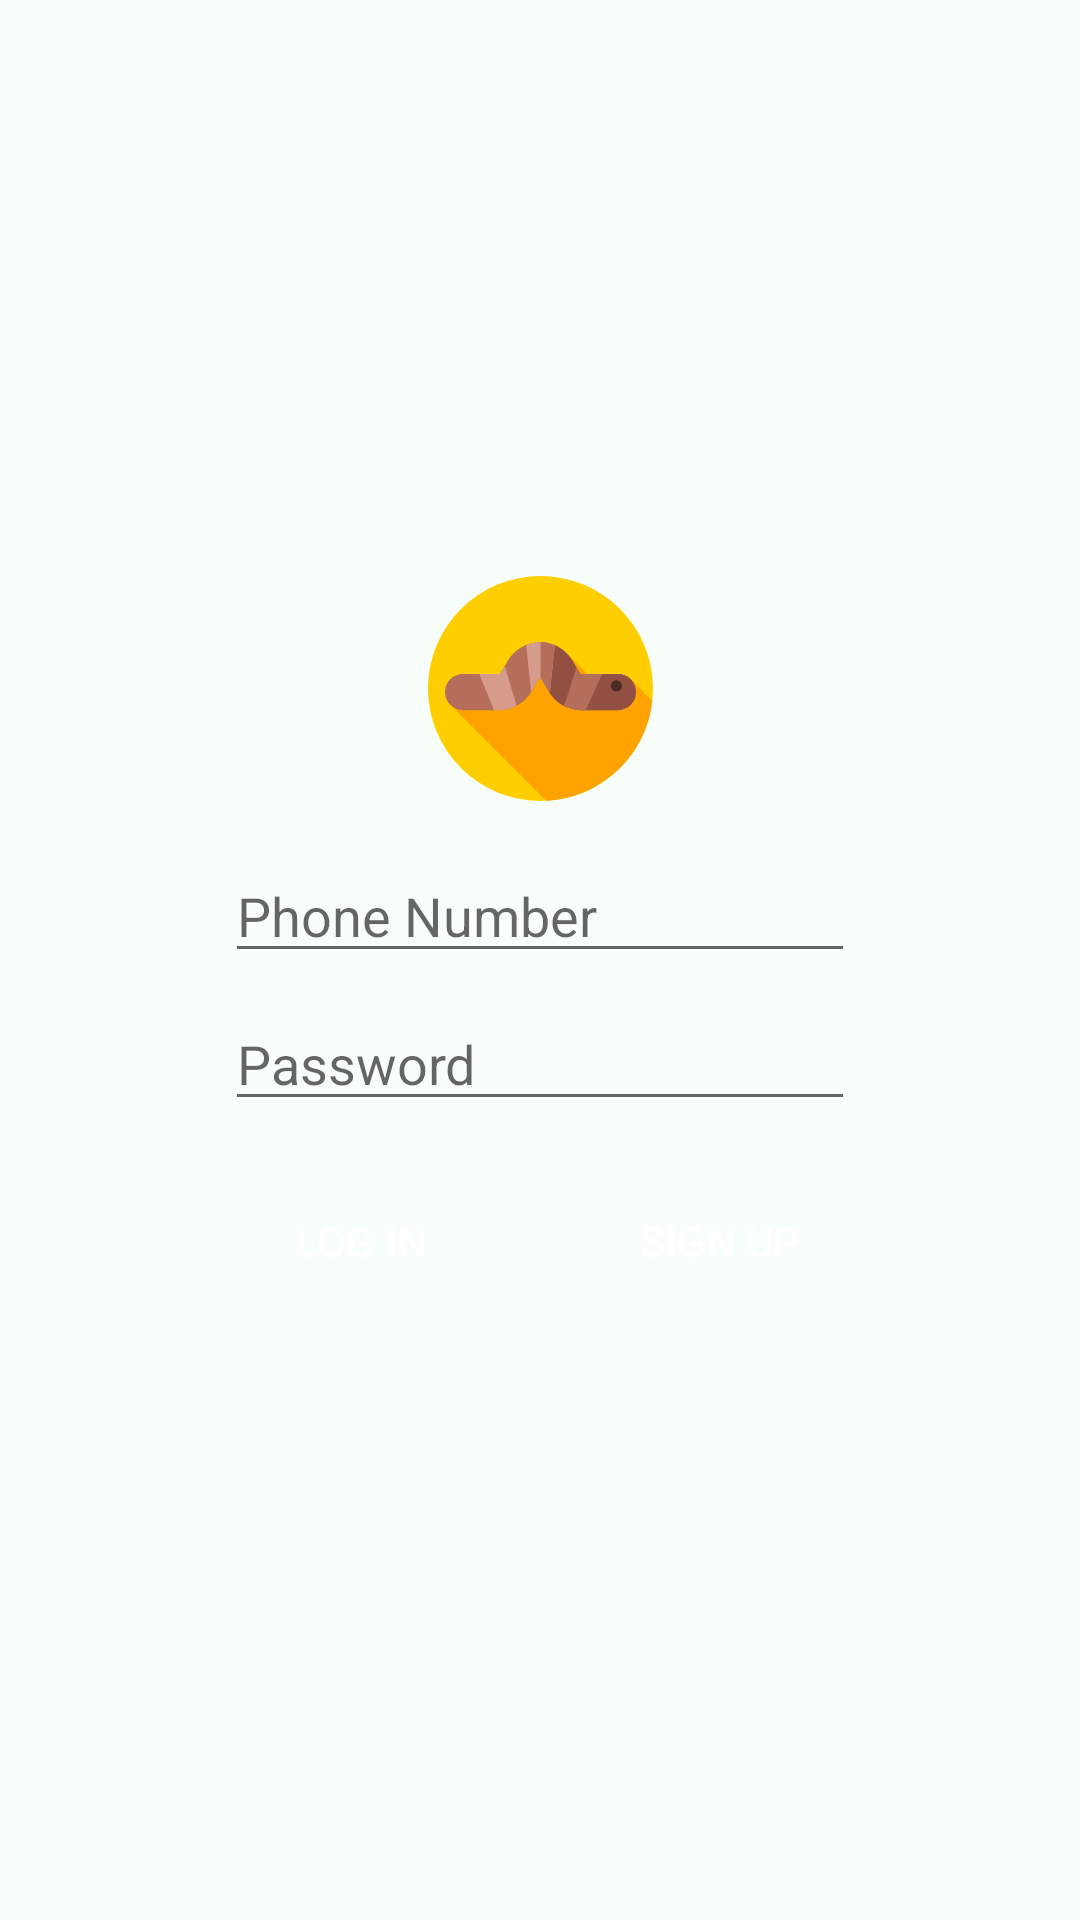

Icons on this 1080x1920 Android screen, each with its box as bbox=[x1, y1, x2, y2]:
earthworm: bbox=[428, 576, 653, 801]
